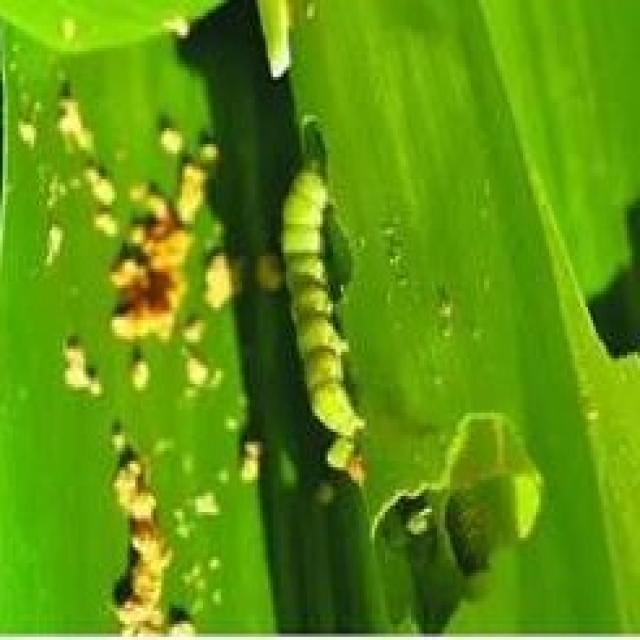army worm: (267, 145, 371, 459)
